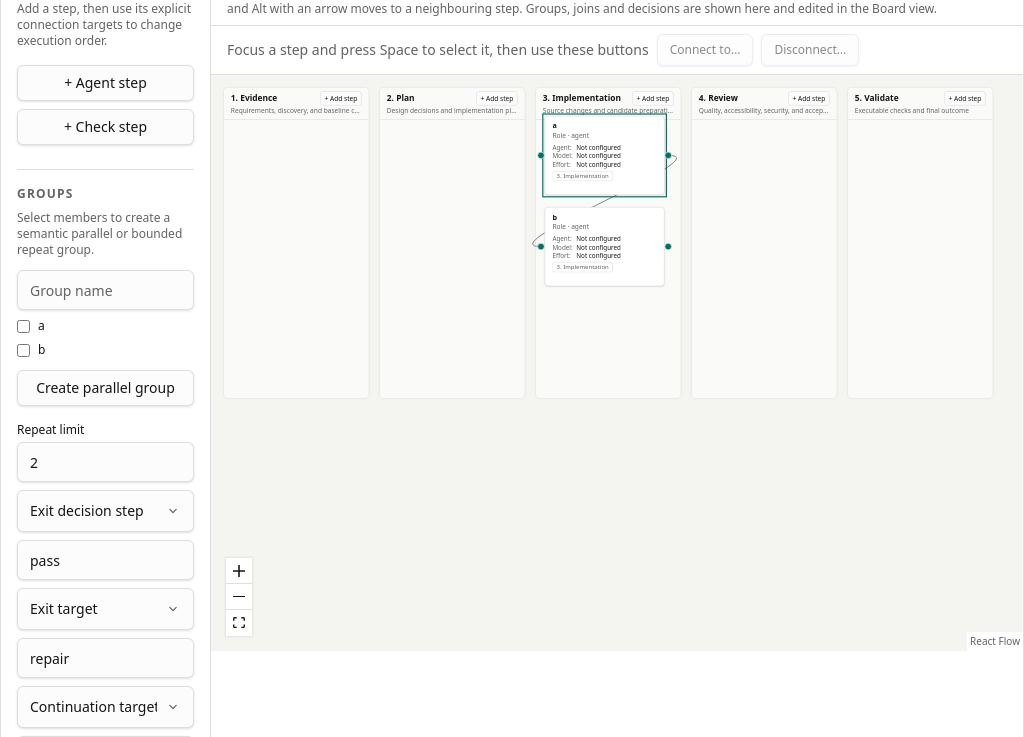
Scenario: an arrow-key move into the Review lane › asks first and leaves the loop unchanged
(page scrolled)
Step 1. Type keys " "
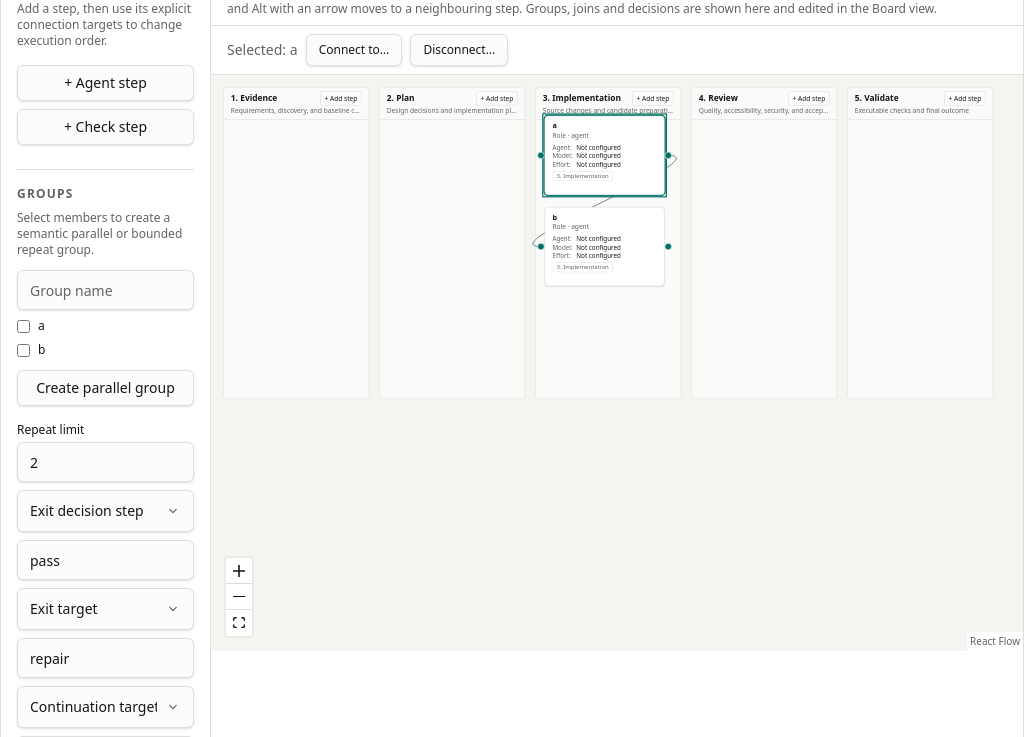
Step 2. Press Arrowright
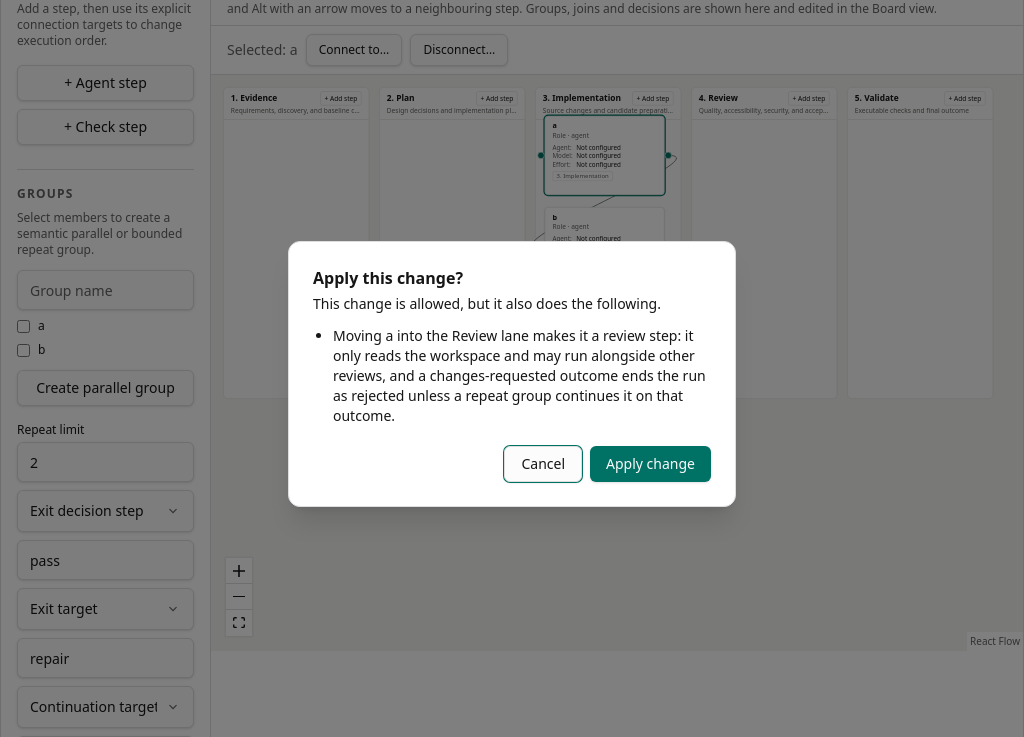
Check: the list item "into the Review lane" is shown, box [333,326,706,425]
Step 3. Click the button "Cancel" → point(543, 464), box [504,446,582,482]
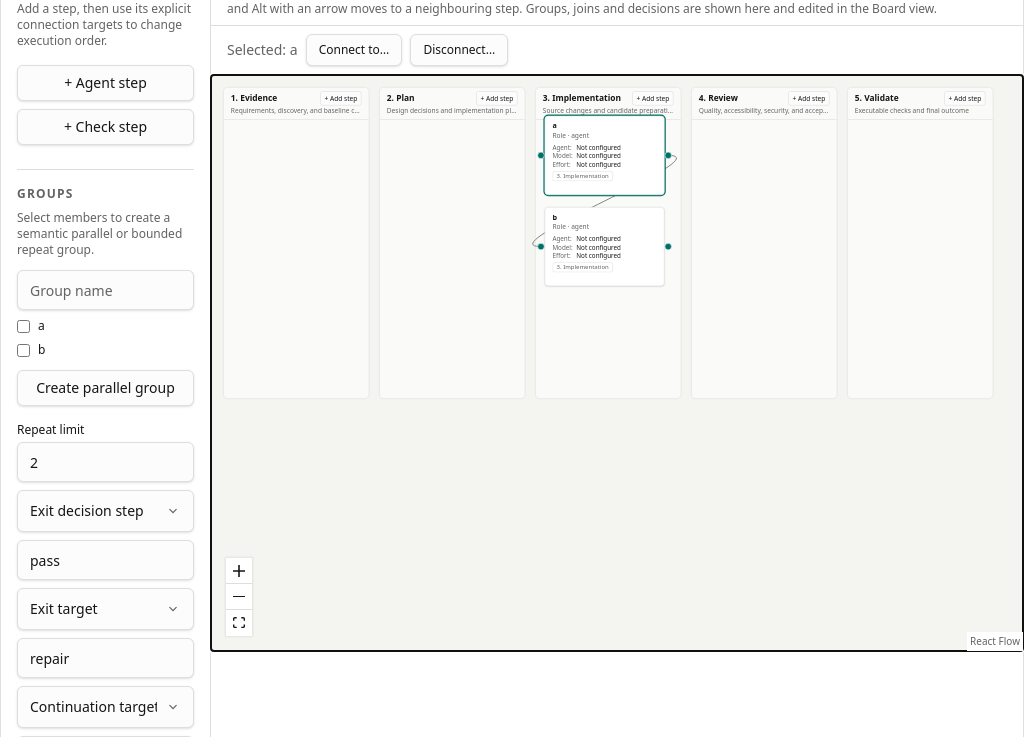
Check: the dialog is gone
